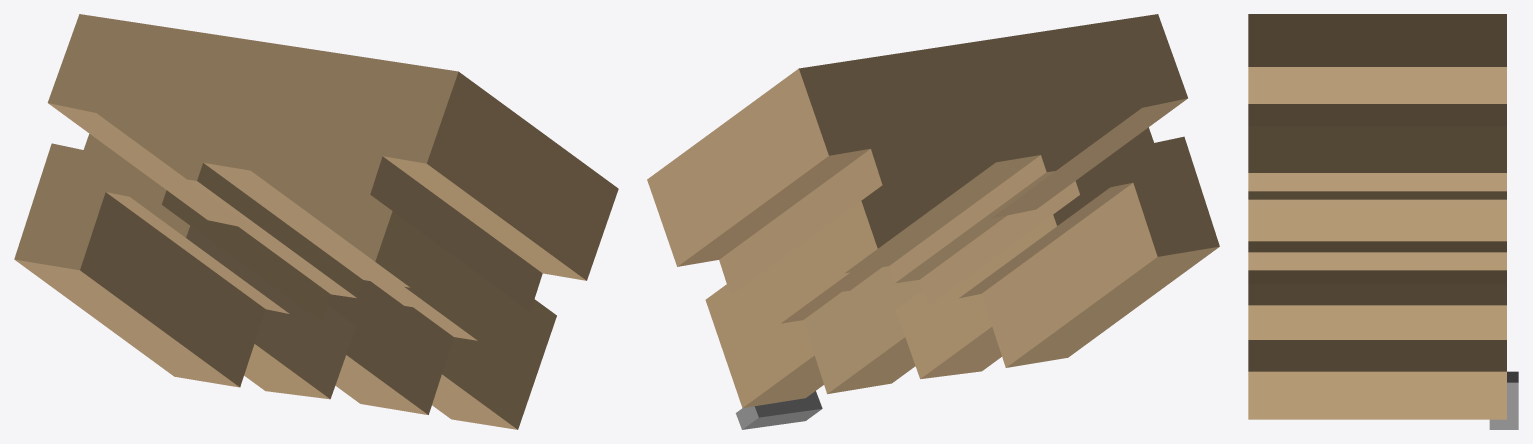
3 renders of one model, left to right at view 1: azimuth 30°, elevation 25°; view 2: azimuth 150°, elevation 25°; view 3: azimuth 270°, elevation 25°, orthographic. The views are drawn at different scales.
Parts seen in each view (by area): view 1: 0_0_3_1_3_1_2_2_3; view 2: 0_0_3_1_3_1_2_2_3; view 3: 0_0_3_1_3_1_2_2_3.
Boxes of the visible parts, x1,y1,x2,y2 form: 0_0_3_1_3_1_2_2_3: (14,14,618,429); 0_0_3_1_3_1_2_2_3: (647,14,1219,429); 0_0_3_1_3_1_2_2_3: (1248,14,1518,429).
Bounding box in the file's own units: 43.25 × 35.6 × 28.2.
